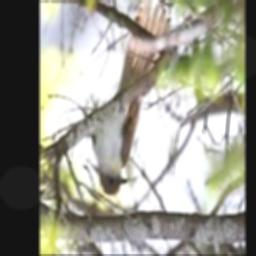Cuckoo: (91, 1, 171, 196)
